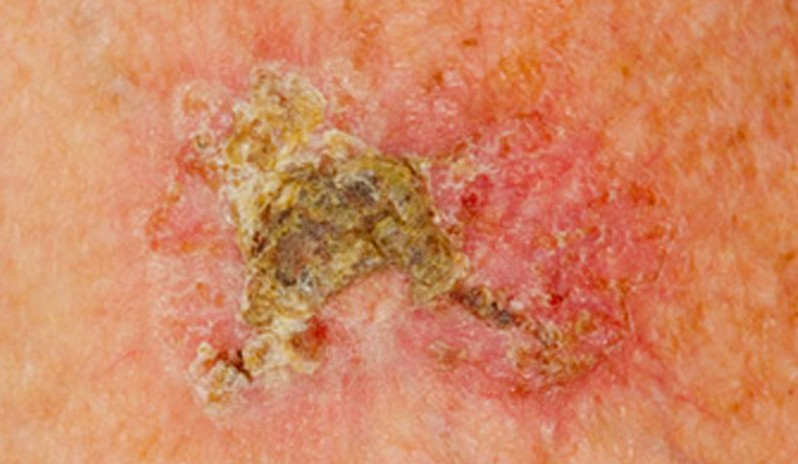Actinic Keratosis: (109, 17, 723, 445)
